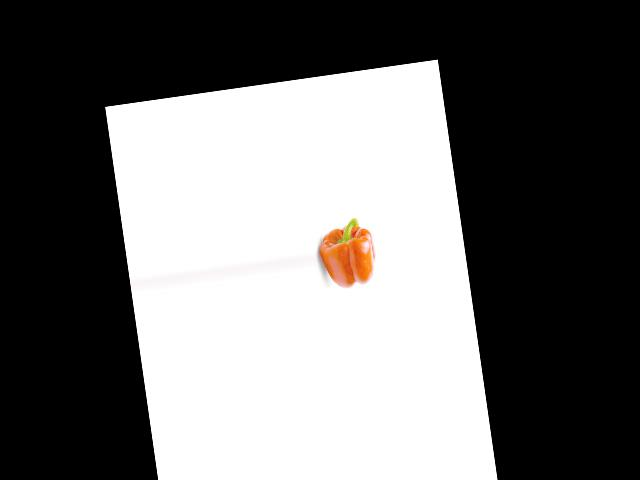bell_pepper: (315, 211, 380, 296)
